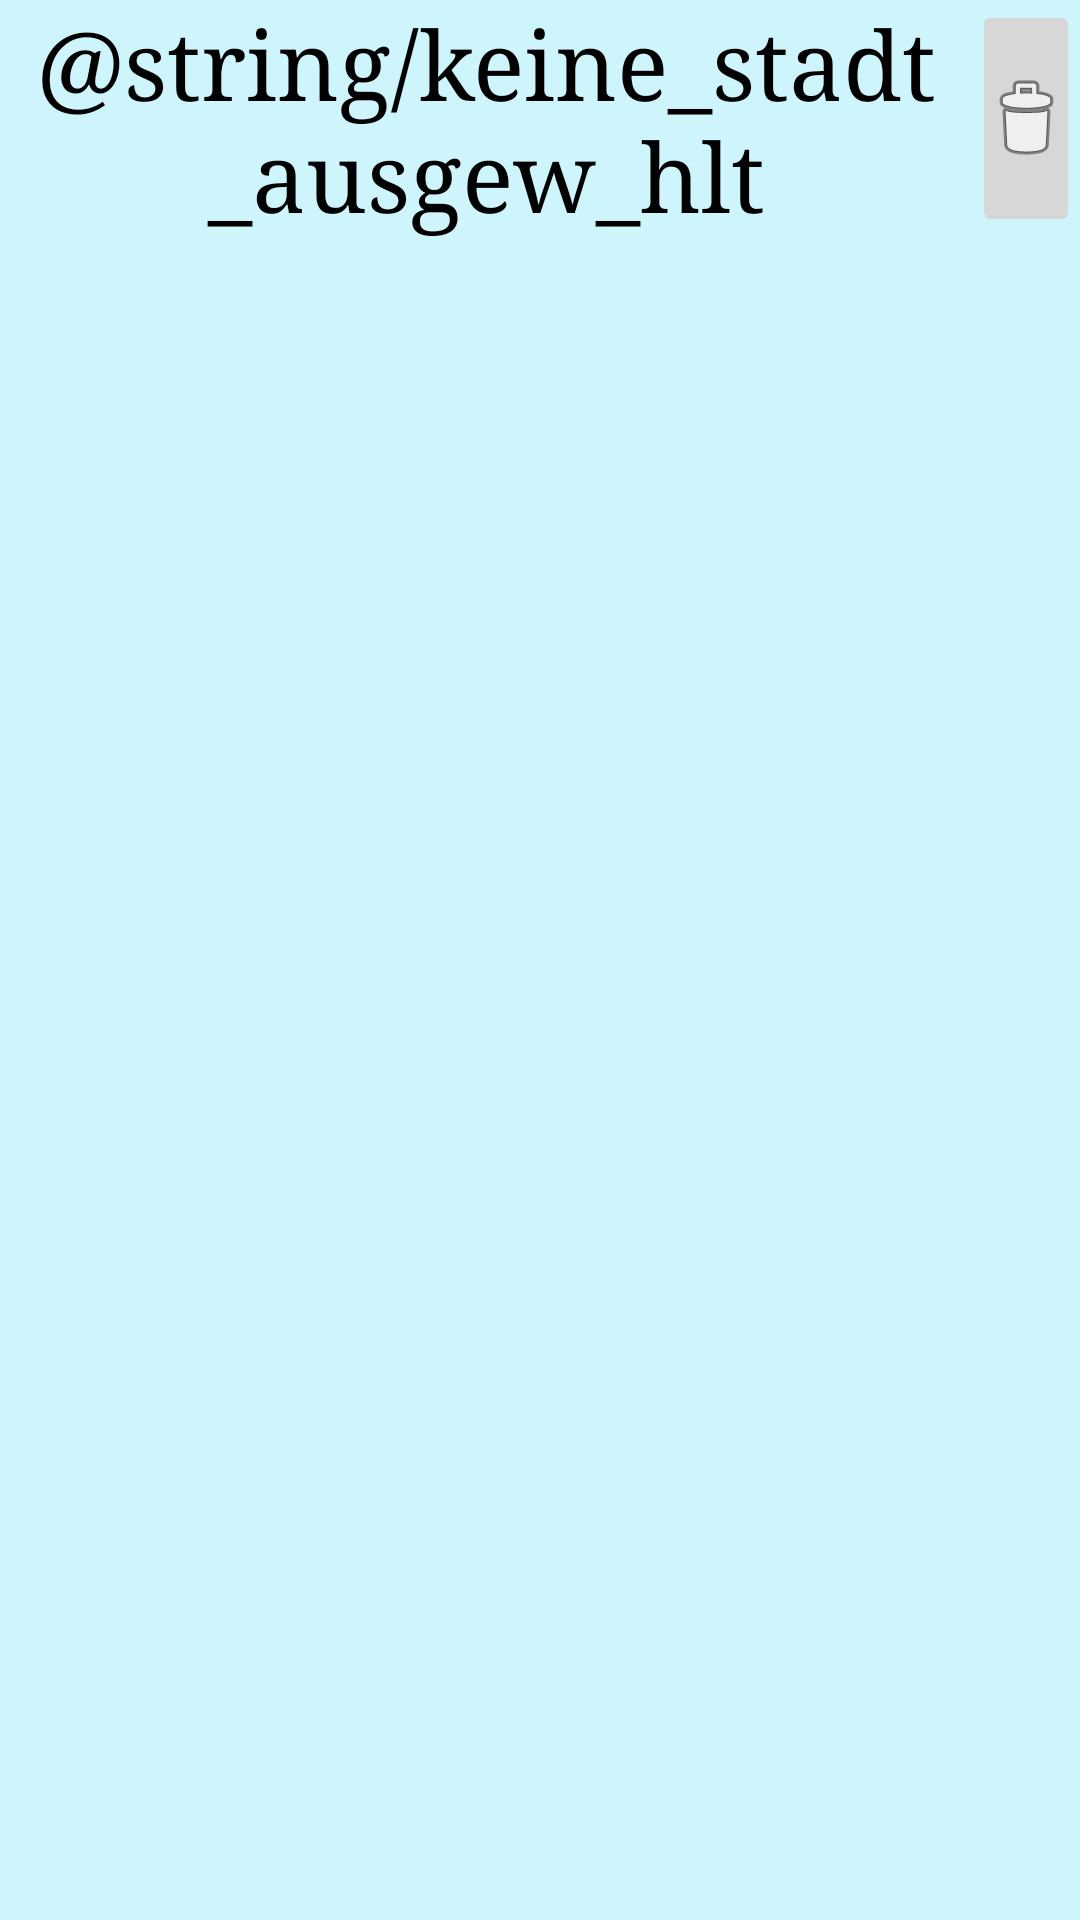

Locate icon controls on the screen. Image size 1080px×1920px, boxes as (x1, y1, x2, y2).
delete: (984, 18, 1068, 219)
